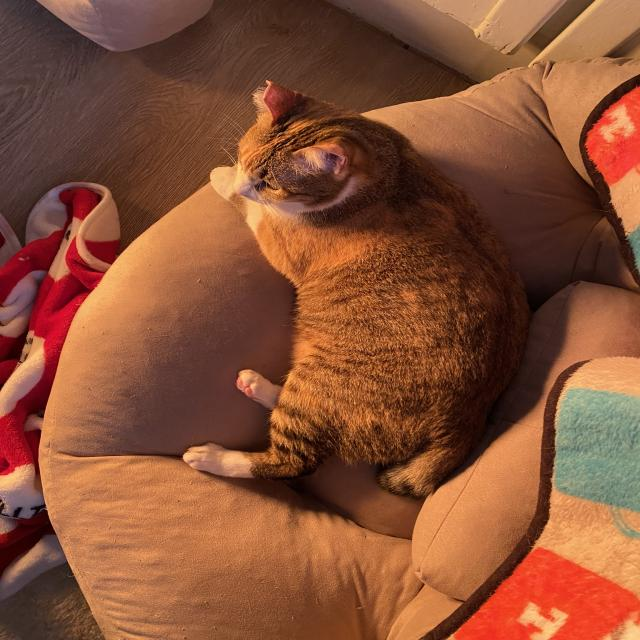cat2: (199, 74, 523, 498)
